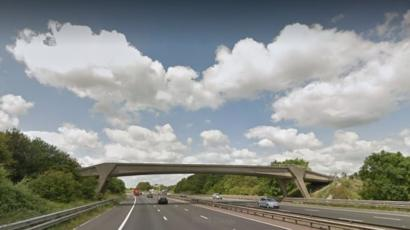bridge: (73, 162, 336, 201)
